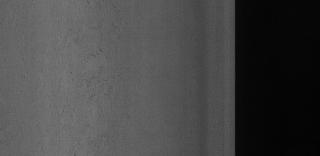silk spot: (56, 28, 124, 120)
